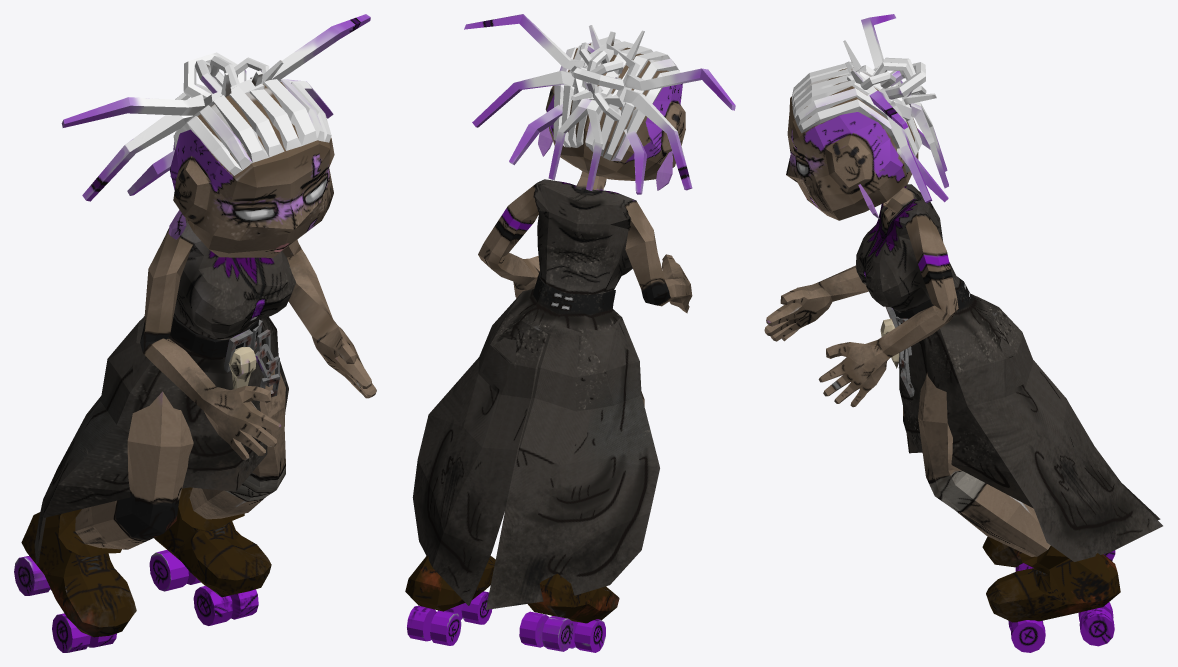
The model's file is bruja_000017.obj.
The picture shows the model from 3 angles, left to right: view 1: azimuth 30°, elevation 25°; view 2: azimuth 150°, elevation 25°; view 3: azimuth 270°, elevation 25°; orthographic projection. The views are drawn at different scales.
Visible parts, largest first — view 1: Bruja_Plane.001; view 2: Bruja_Plane.001; view 3: Bruja_Plane.001.
Boxes of the visible parts, left/top/right/bottom form: Bruja_Plane.001: left=14, top=14, right=376, bottom=652; Bruja_Plane.001: left=405, top=14, right=735, bottom=652; Bruja_Plane.001: left=764, top=14, right=1162, bottom=652.
Bounding box in the file's own units: 7.45 × 14.76 × 9.52.
